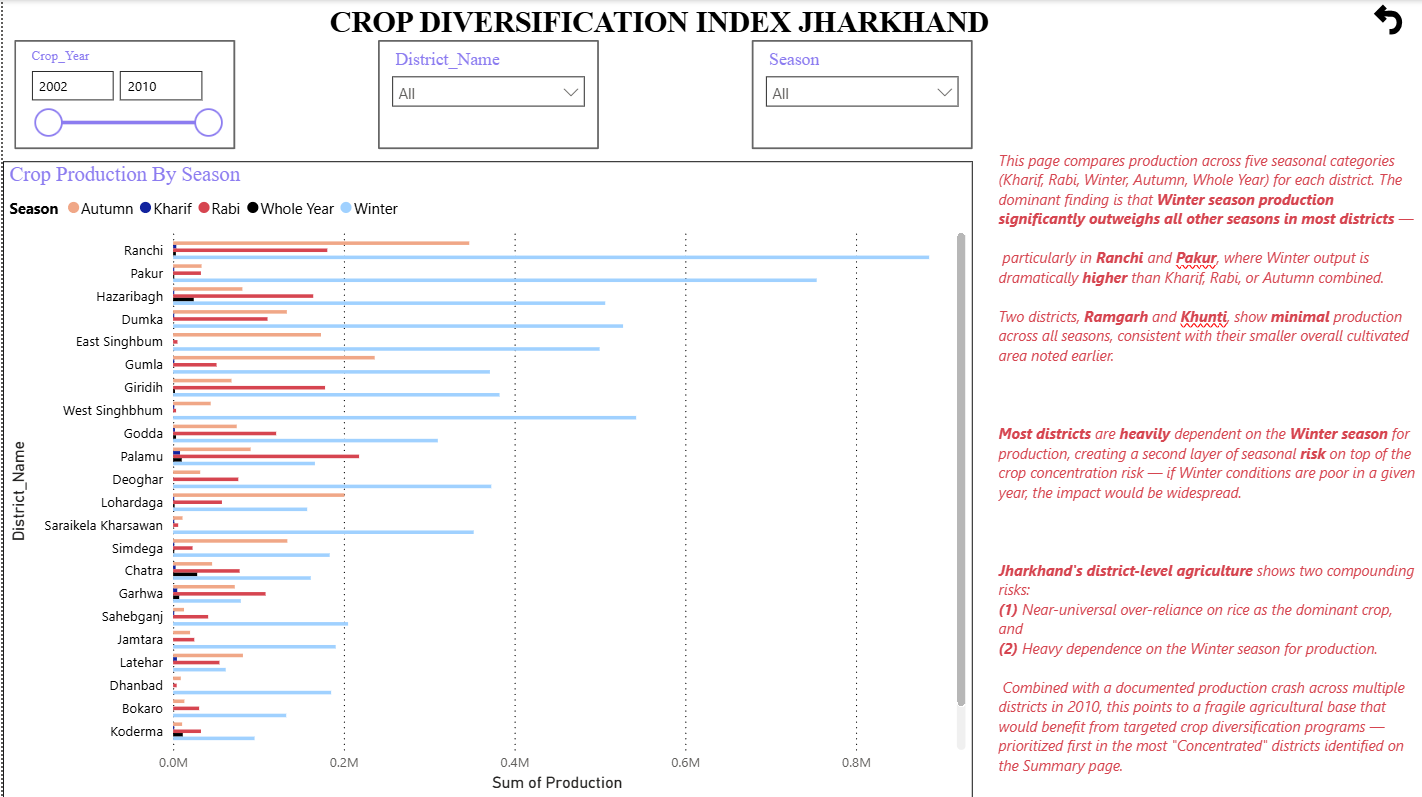

What the dashboard file says about the page in this screenshot:
{"tool":"powerbi","page":{"name":" Season Comparison ","canvas":[1280,720],"ordinal":3},"visuals":[{"type":"clusteredBarChart","title":" Crop Production By Season","fields":{"Category":["Jharkhand.District_Name"],"Series":["Jharkhand.Season"],"Y":["Sum(Jharkhand.Production)"]},"box":[0,145.5,874.5,574.7],"z":0},{"type":"textbox","box":[289.8,0,618.2,44.8],"z":1},{"type":"slicer","fields":{"Values":["yearly_trend.Crop_Year"]},"box":[10,36.1,199,98.3],"z":2},{"type":"slicer","fields":{"Values":["yearly_trend.District_Name"]},"box":[338.4,36.1,199,98.3],"z":3},{"type":"slicer","fields":{"Values":["Jharkhand.Season"]},"box":[675.5,36.1,199,98.3],"z":5},{"type":"textbox","box":[893.2,113.2,386.9,607.1],"z":6},{"type":"actionButton","box":[1231.5,0,48.5,34.8],"z":7}]}

Visuals, with their boxes in screenshot pixels (x1, y1, x2, y2), scaled from the page's 1280x720 canvas onto the 1422x797 screenshot:
" Crop Production By Season" clusteredBarChart: (x1=0, y1=161, x2=972, y2=796)
textbox: (x1=322, y1=0, x2=1009, y2=50)
slicer - yearly_trend.Crop_Year: (x1=11, y1=40, x2=232, y2=149)
slicer - yearly_trend.District_Name: (x1=376, y1=40, x2=597, y2=149)
slicer - Jharkhand.Season: (x1=750, y1=40, x2=972, y2=149)
textbox: (x1=992, y1=125, x2=1421, y2=796)
actionButton: (x1=1368, y1=0, x2=1421, y2=39)
